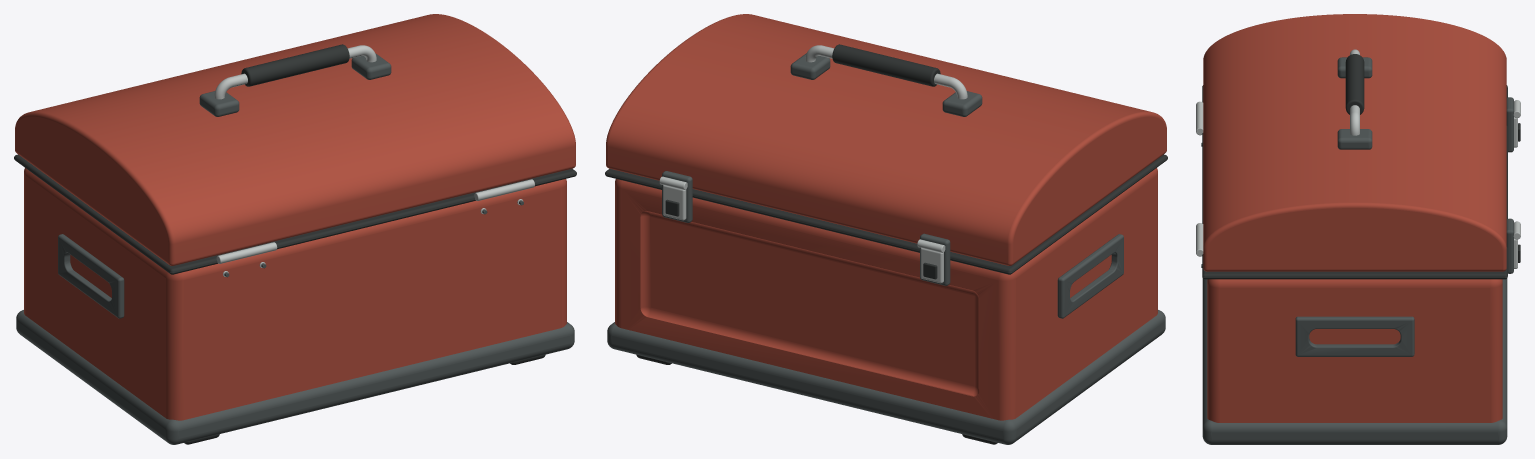
Rendered from toolbox.fbx.
3 views of the same model, side by side, from view 1: azimuth 30°, elevation 25°; view 2: azimuth 150°, elevation 25°; view 3: azimuth 270°, elevation 25° (orthographic). The views are drawn at different scales.
Parts seen in each view (by area): view 1: toolbox_LOD0; view 2: toolbox_LOD0; view 3: toolbox_LOD0.
Part boxes in pixels (bbox=[...]): toolbox_LOD0: bbox=[14, 14, 576, 444]; toolbox_LOD0: bbox=[605, 14, 1167, 444]; toolbox_LOD0: bbox=[1196, 14, 1520, 444].
Size of what is drawn, in the model's own units: 0.451 by 0.305 by 0.3168.
